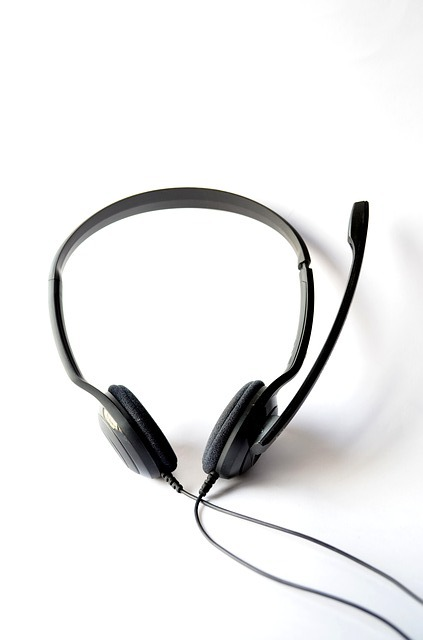headphones: (49, 187, 314, 480)
